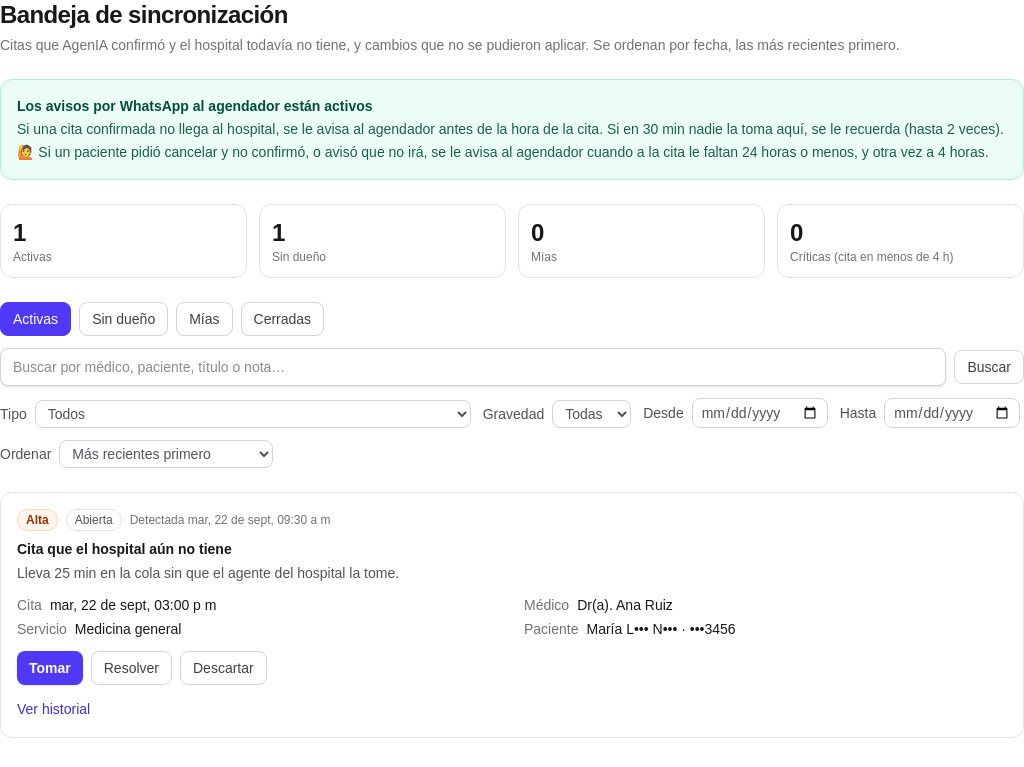
Test: BandejaClient — trabajar una excepción › 📝 Resolver pide la nota y NO se puede confirmar con menos de 5 caracteres
The width and height of the screenshot is (1024, 767).
Click the button "Resolver" at (131, 668), box [91,650,172,684]
(page scrolled)
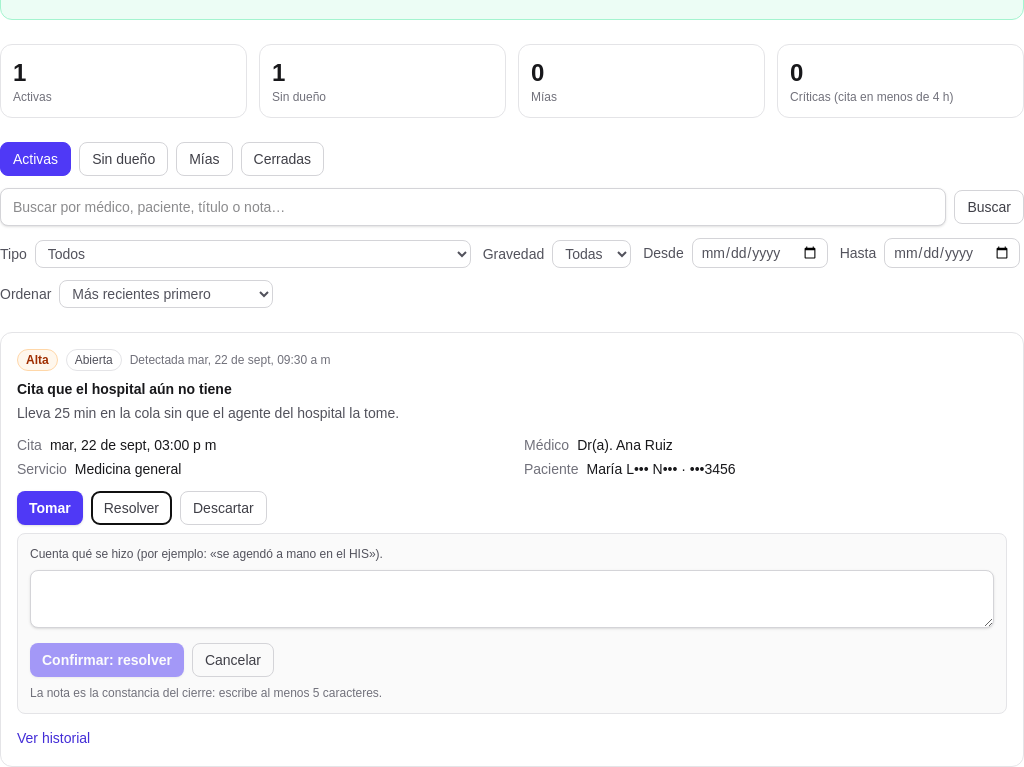
Now the button "Confirmar: resolver" is disabled, box [30,642,184,676]
Type "abc" into the text box at (512, 598), box [30,570,994,628]
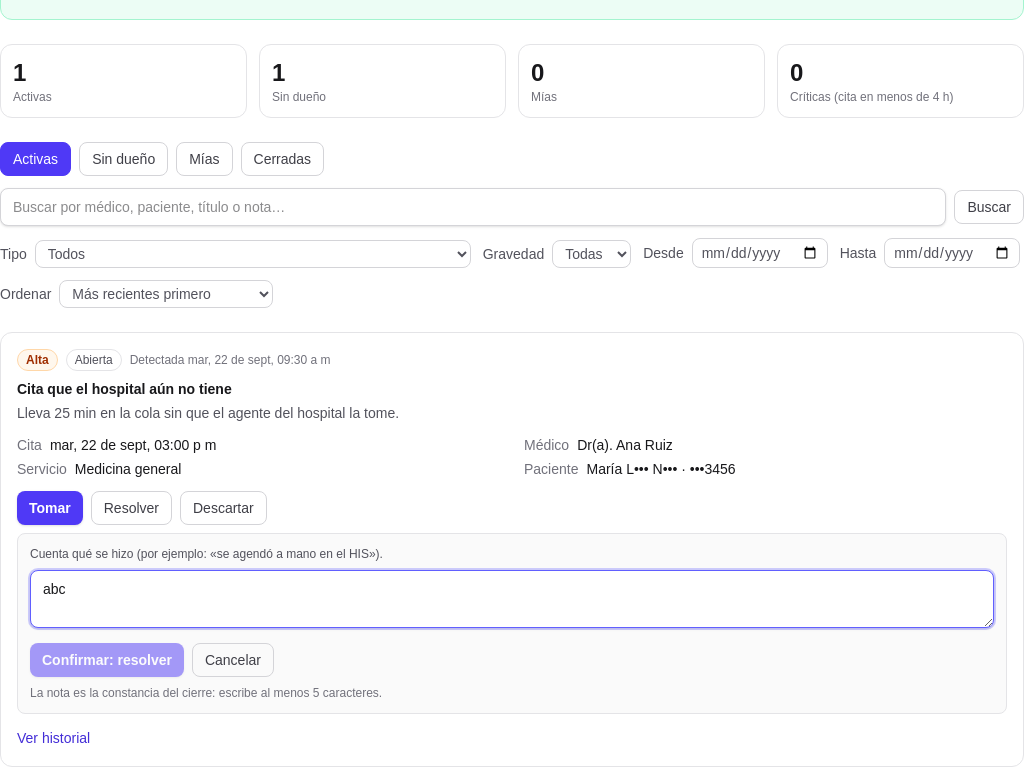
Now the button "Confirmar: resolver" is disabled, box [30,642,184,676]
Type "de" into the text box at (512, 598), box [30,570,994,628]
(page scrolled)
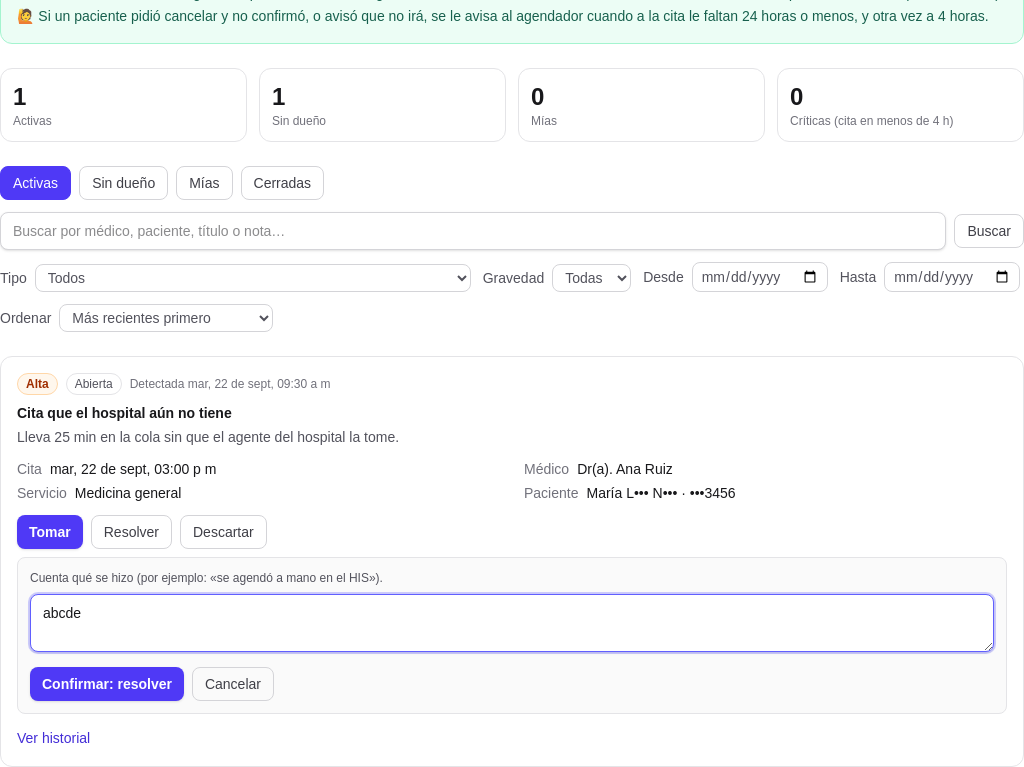
Now the button "Confirmar: resolver" is enabled, box [30,666,184,700]
